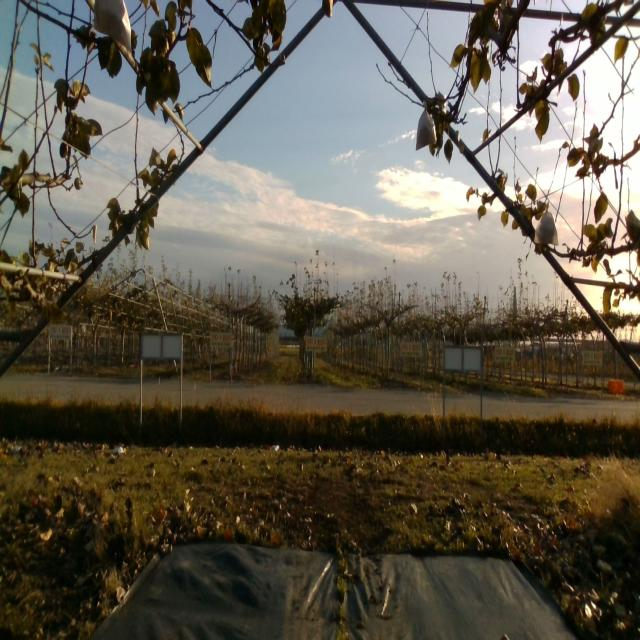pearbags: (414, 94, 436, 153), (533, 203, 558, 250)
